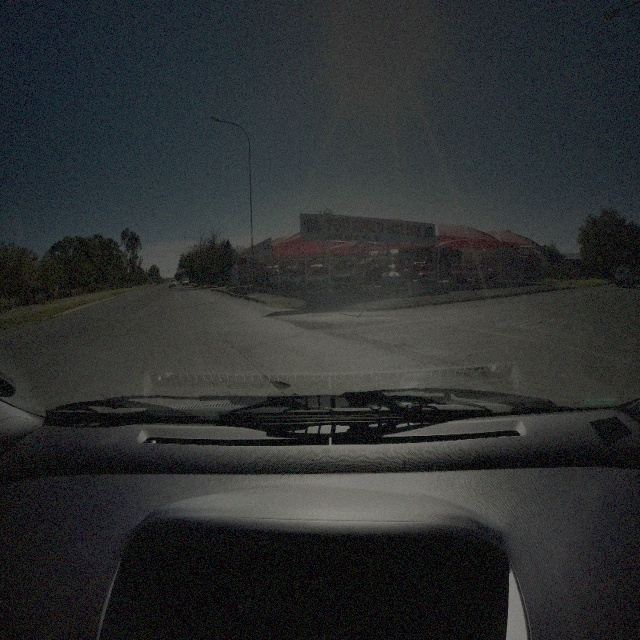pothole: (459, 362, 492, 378), (269, 376, 291, 389)
